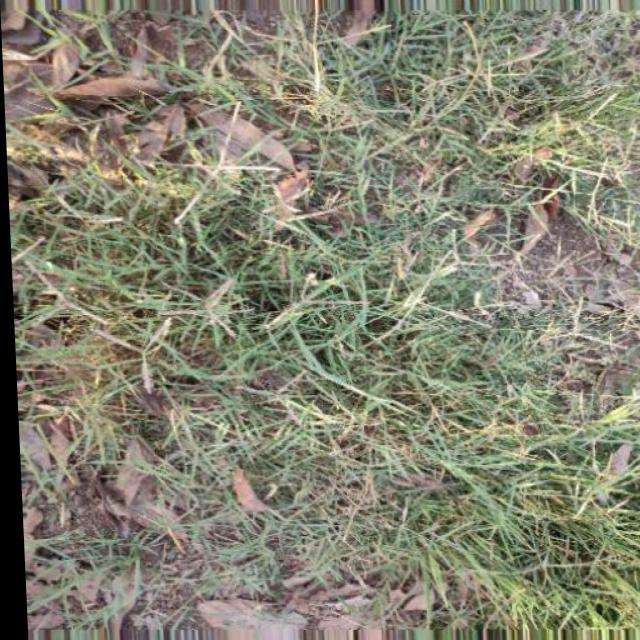weed: (19, 45, 634, 600)
